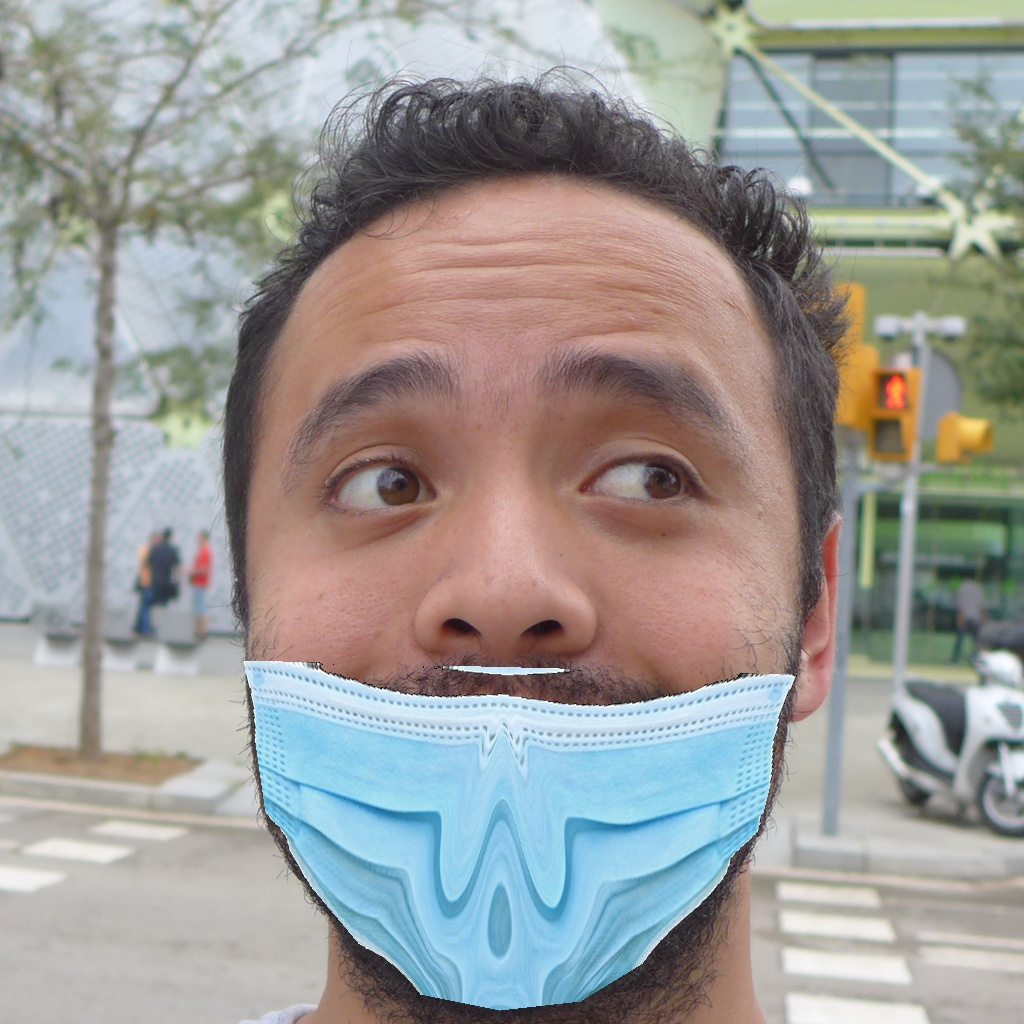mascarilla_mal_puesta: (219, 363, 859, 1020)
